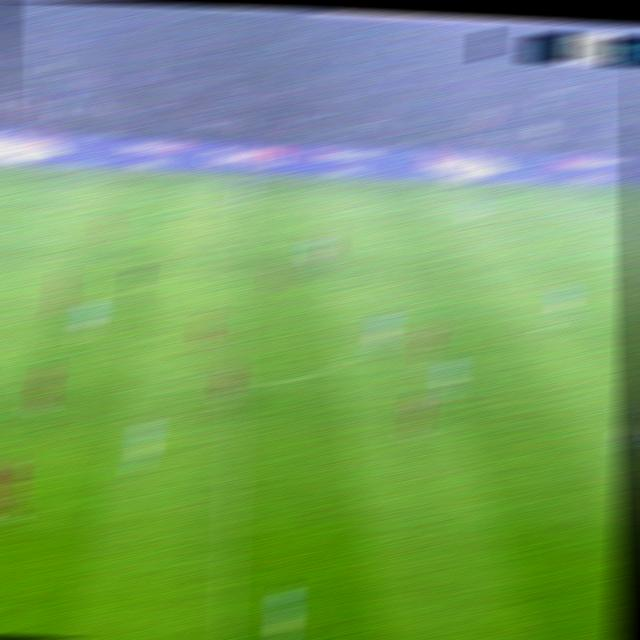halfcircle_bottom: (223, 371, 253, 395)
halfcircle_top: (228, 264, 255, 282)
